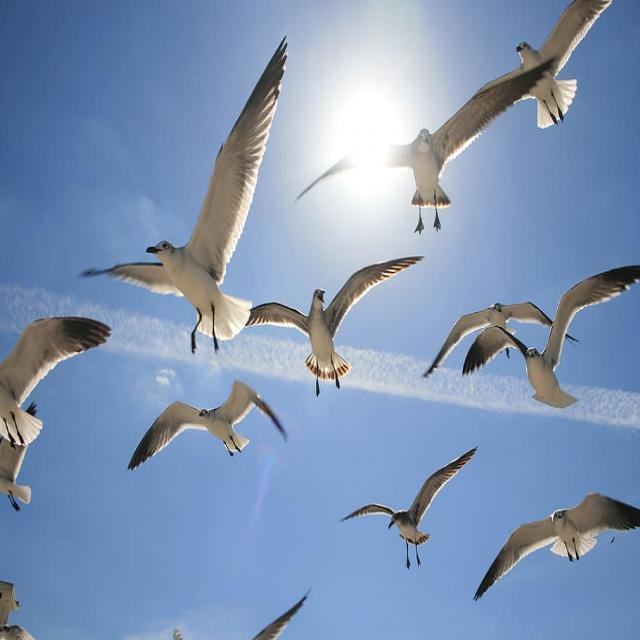bird: (66, 11, 292, 394), (268, 58, 566, 242), (432, 243, 638, 429), (236, 250, 430, 408), (1, 304, 115, 518), (118, 368, 298, 496), (316, 442, 481, 574), (464, 1, 618, 134), (466, 484, 640, 599), (414, 284, 576, 388)
